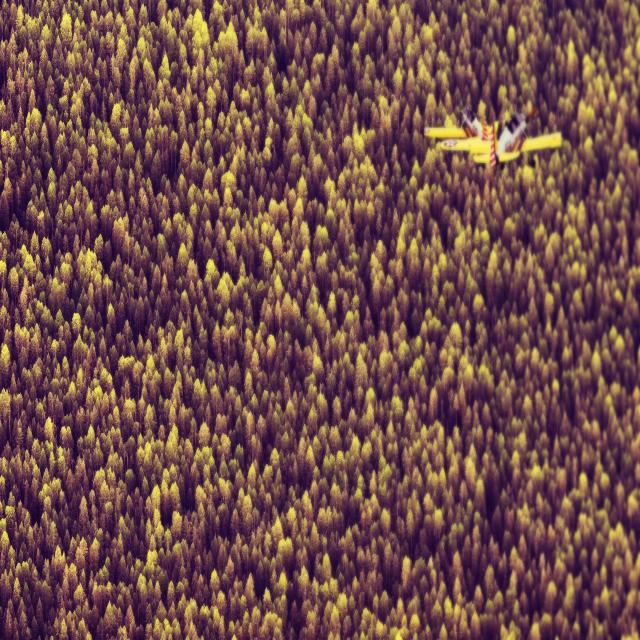airplane: (423, 106, 562, 170)
